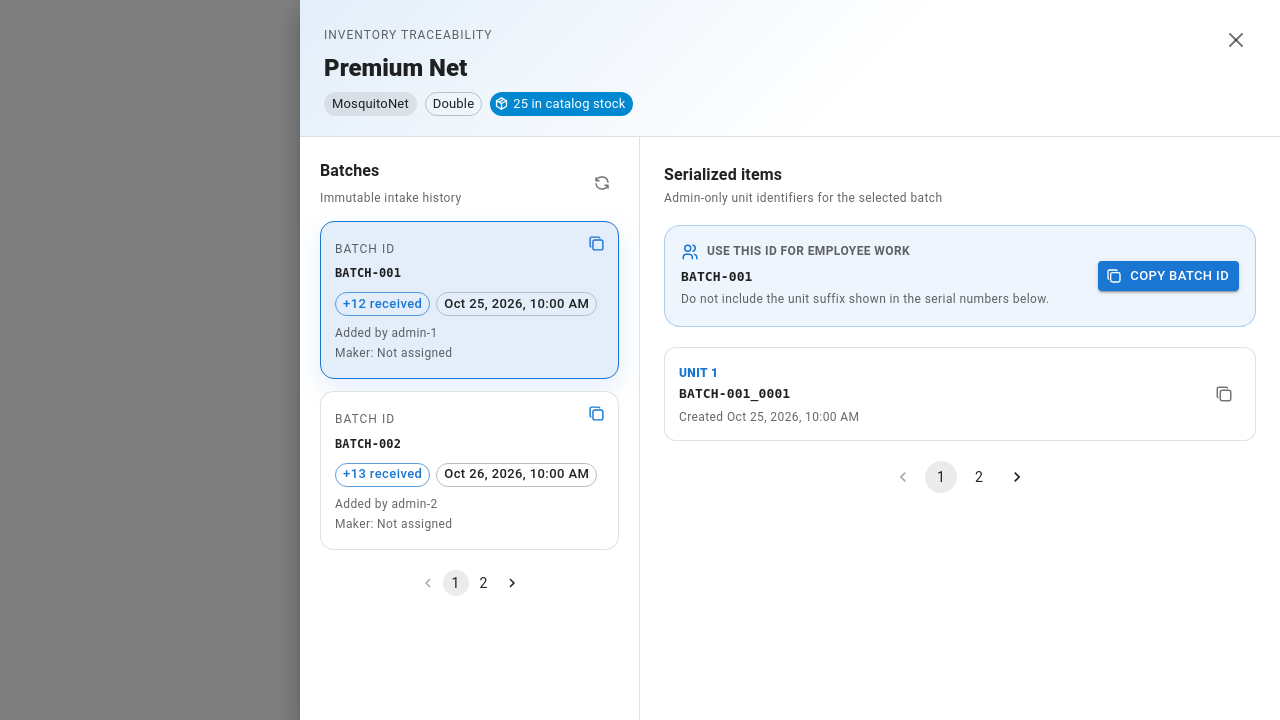
Test: InventoryTraceability › supports batch pagination and replaces the stale batch selection
Expected: the text "BATCH-001_0001" is shown, [679,386,790,401]
Click the button named "Go to page 2" at (484, 582), box [470,570,496,596]
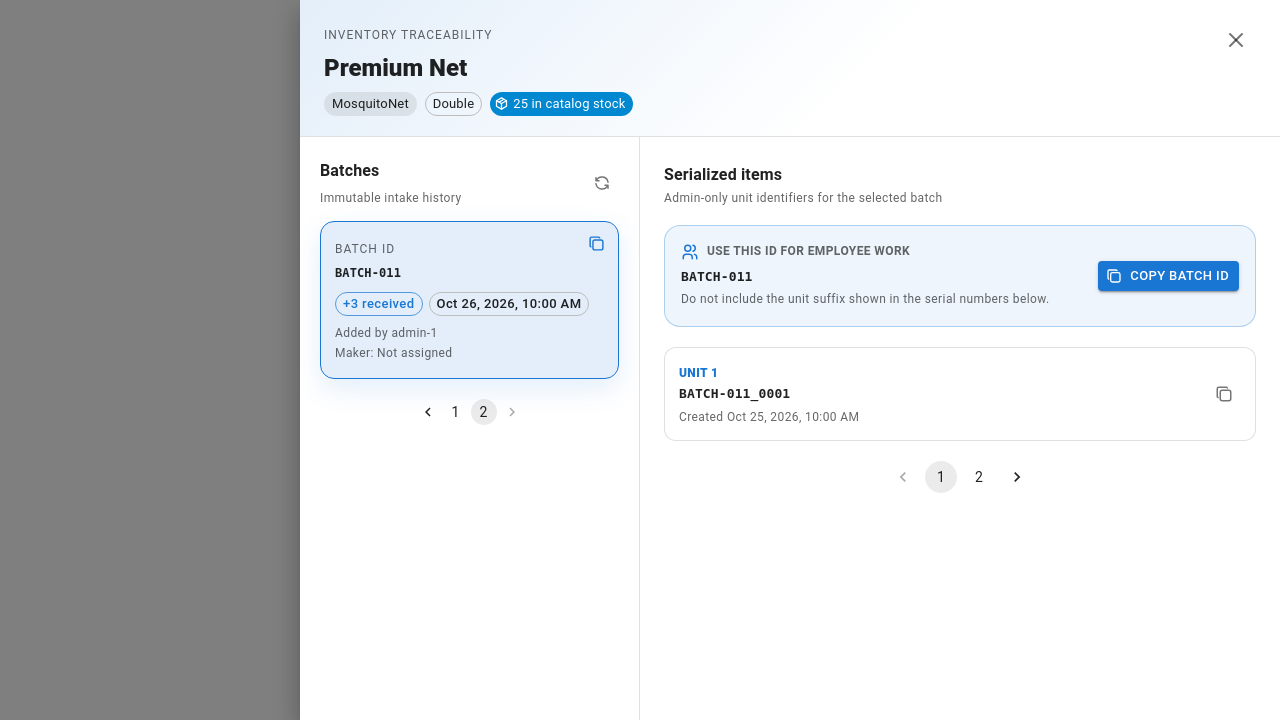
Now the text "BATCH-011_0001" is shown, box [679,386,790,401]
Now the text "BATCH-001_0001" is gone
